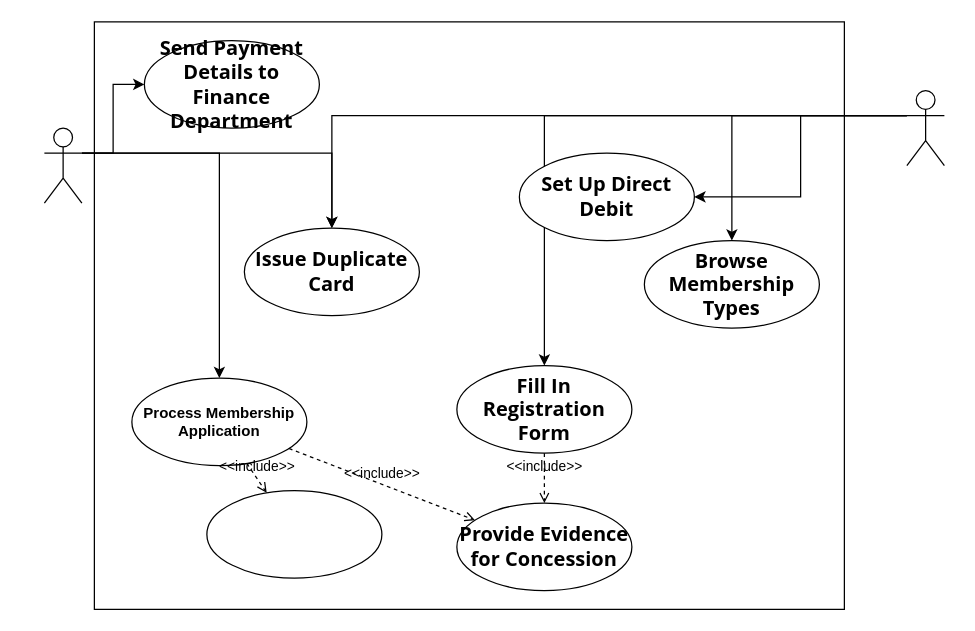
Image size: 975x631. Some labels were removed from this diagram. The shapes that lost their labels are listed below. From the top down, each one's centre as x and y in pixels, then its label:
point 925,127: Custom
point 62,165: Admin Staff
point 294,533: Issue Membership Card
